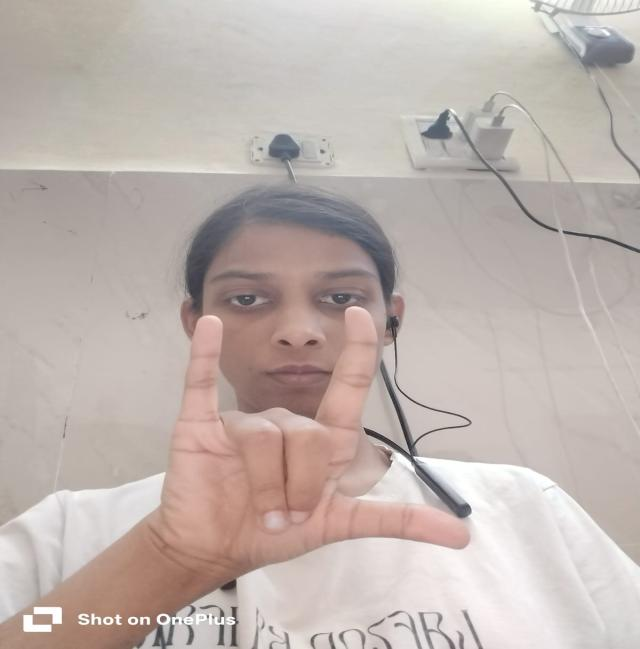I Love You: (139, 297, 485, 580)
